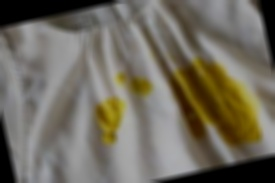mustard: (163, 52, 248, 155), (208, 80, 262, 152), (92, 95, 130, 149), (127, 71, 151, 96), (114, 70, 130, 87)
